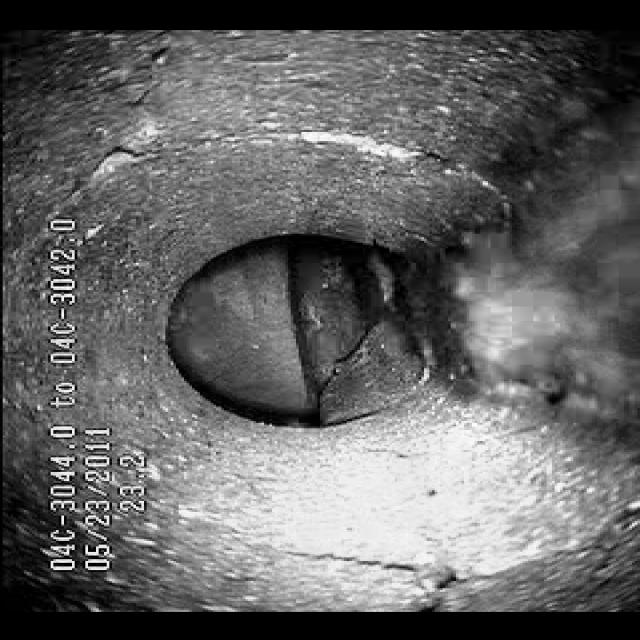Fracture: (237, 474, 591, 596), (74, 111, 464, 195)
